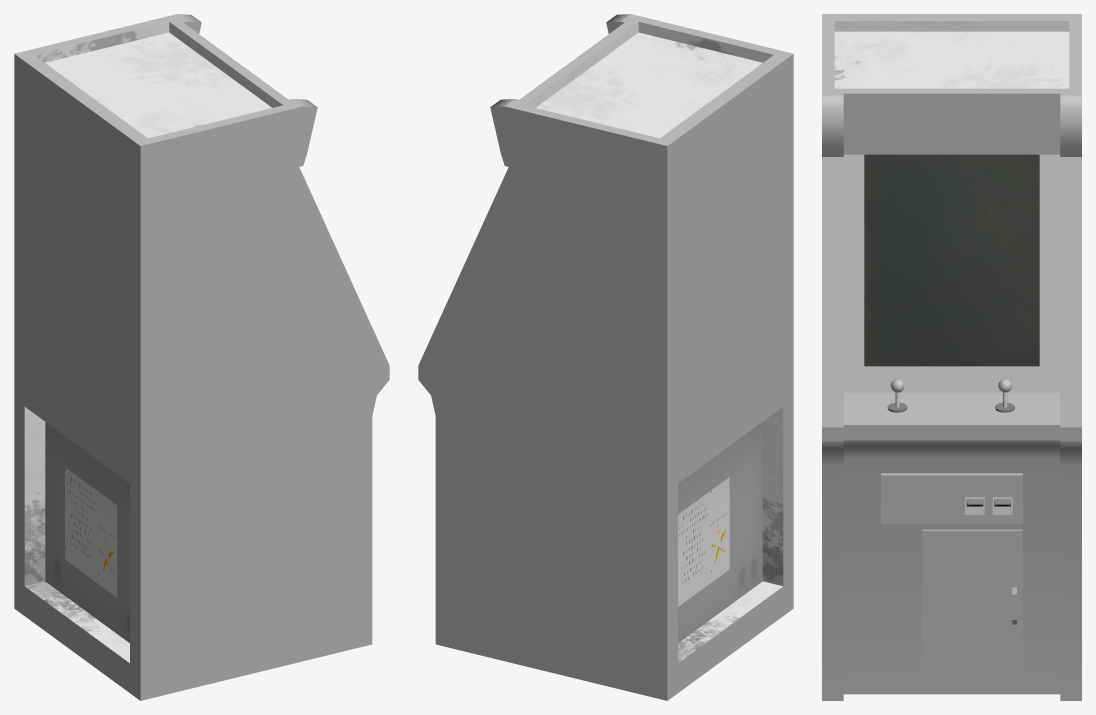
Rendered from Arcade Playset.fbx.
3 renders of one model, left to right at view 1: azimuth 30°, elevation 25°; view 2: azimuth 150°, elevation 25°; view 3: azimuth 270°, elevation 25°, orthographic. The views are drawn at different scales.
Visible parts, largest first — view 1: Cube.022; view 2: Cube.022; view 3: Cube.022.
Part boxes in pixels (x1,y1,x2,y2): Cube.022: (14, 14, 389, 700); Cube.022: (418, 14, 793, 700); Cube.022: (822, 14, 1081, 700).
Size of the model in its own units: 70.77 by 151 by 62.11.
